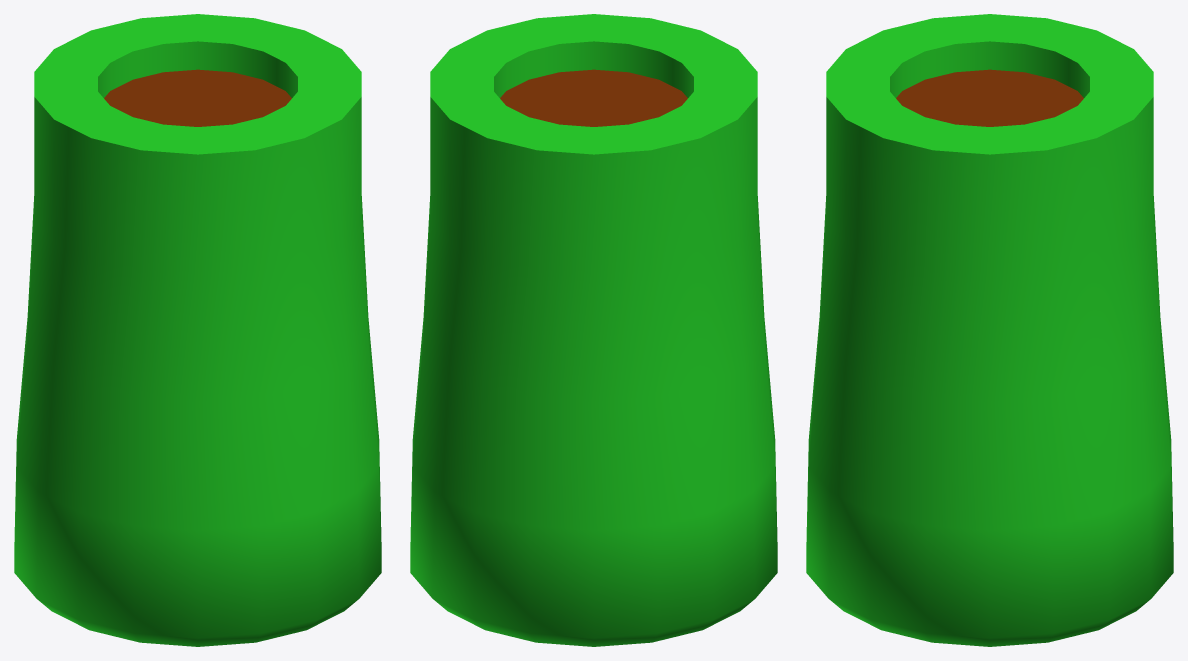
The model's file is Tronc_Honk_low.fbx.
The picture shows the model from 3 angles, left to right: view 1: azimuth 30°, elevation 25°; view 2: azimuth 150°, elevation 25°; view 3: azimuth 270°, elevation 25°; orthographic projection.
Visible parts, largest first — view 1: Tronc; view 2: Tronc; view 3: Tronc.
Part boxes in pixels (x1,y1,x2,y2): Tronc: (14,14,381,646); Tronc: (410,14,777,646); Tronc: (806,14,1173,646).
Bounding box in the file's own units: 10.47 × 15.22 × 10.31.
